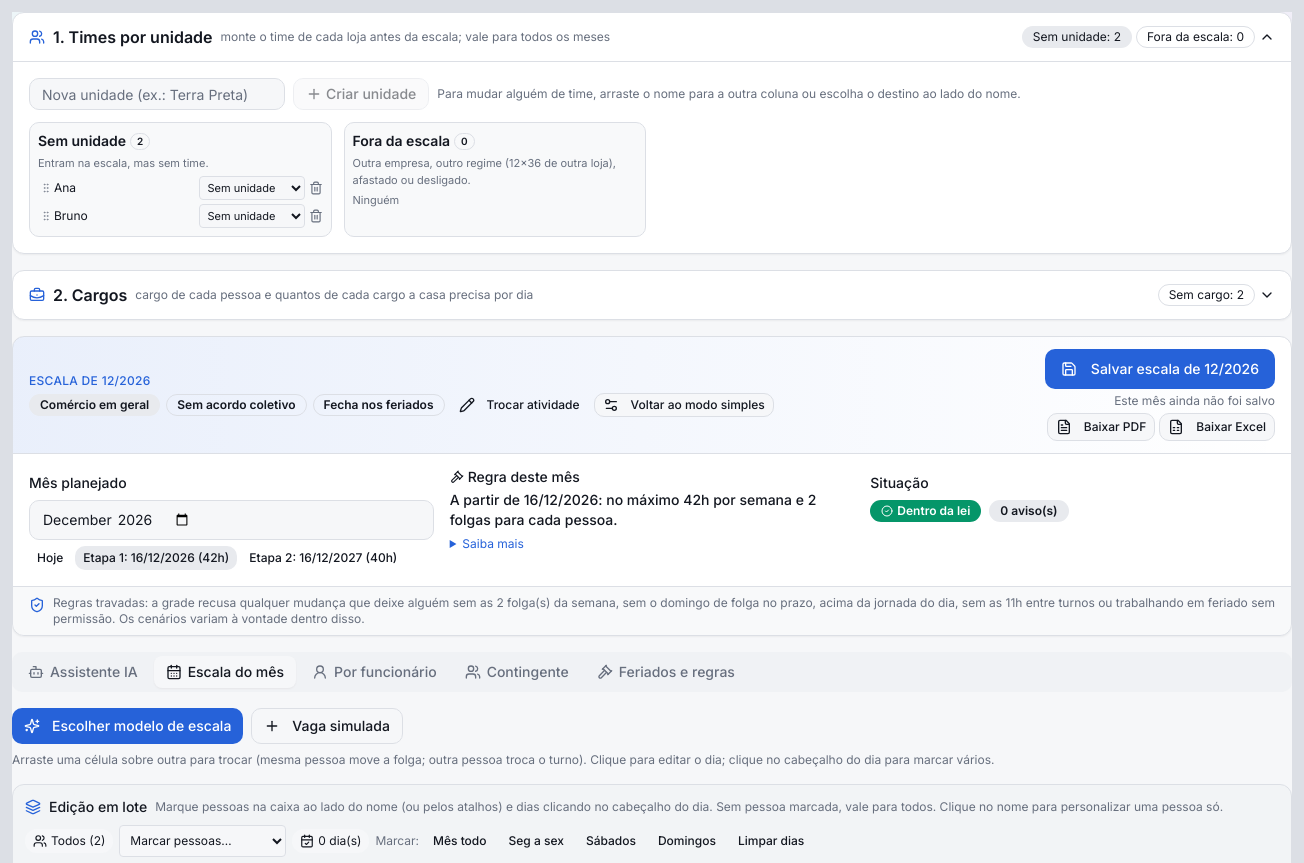
Test: tela do planejador › aplica um cenário e monta a grade com as pessoas
// A escolha do modelo fica numa página à parte.
What coordinates should you click on to do the following:
click the button "Escolher modelo de escala"
I would click on:
 (128, 726)
Its box is [12,708,243,744].
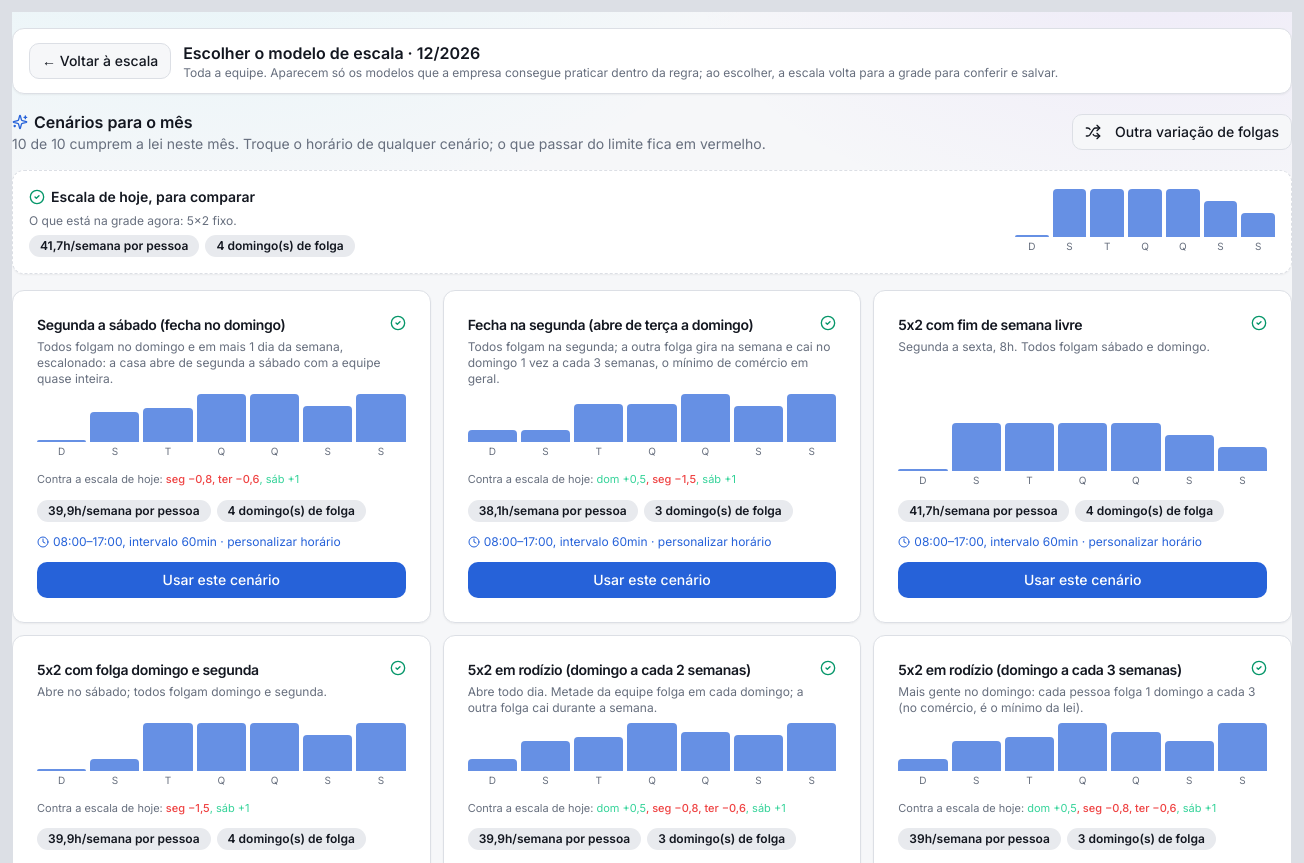
Check: the button "Usar este cenário" below "Segunda a sábado (fecha no domingo)" is shown
What coordinates should you click on to do the following:
click the button "Usar este cenário" below "Segunda a sábado (fecha no domingo)"
I would click on:
 (221, 580)
Its box is [37,562,406,598].
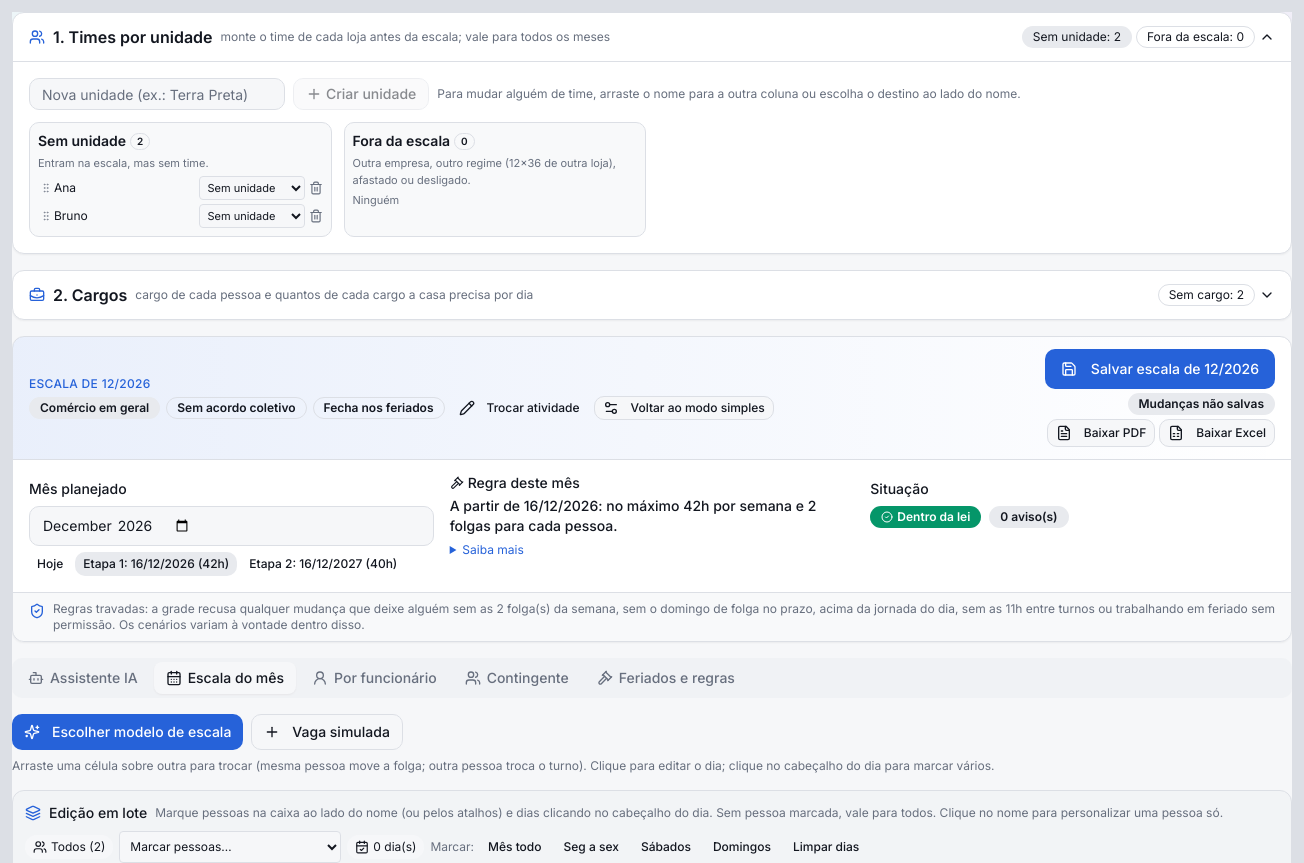
Check: the text "Ana" is shown, box [54,180,76,196]
Check: the text "Bruno" is shown, box [54,208,88,224]
Check: the text "Mudanças não salvas" is shown, box [1128,392,1275,414]
